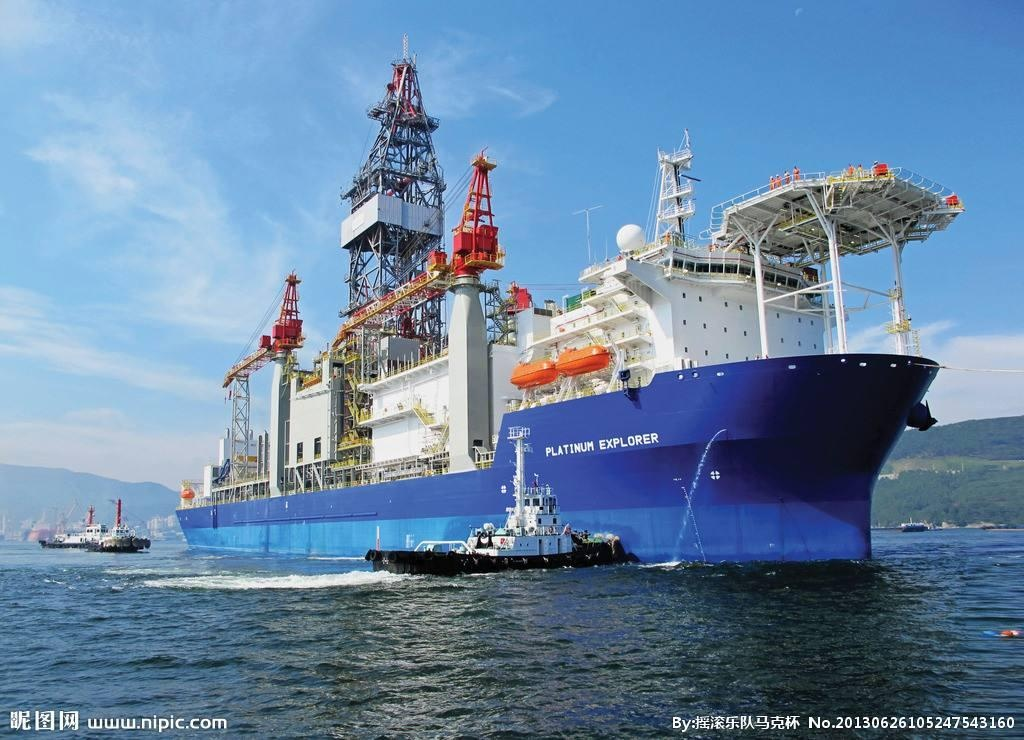Cargoship: (170, 40, 942, 562)
otherboat: (343, 464, 630, 582), (84, 521, 155, 556), (41, 519, 105, 555)
